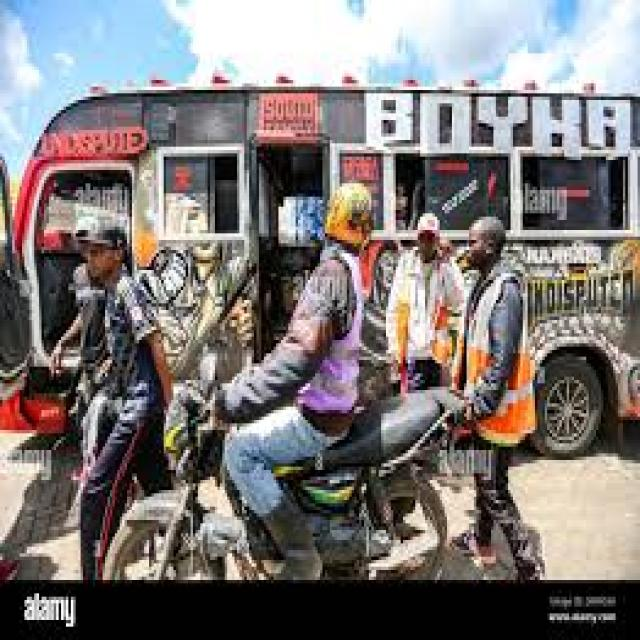bodaboda: (104, 400, 536, 603)
bus: (15, 75, 640, 382)
